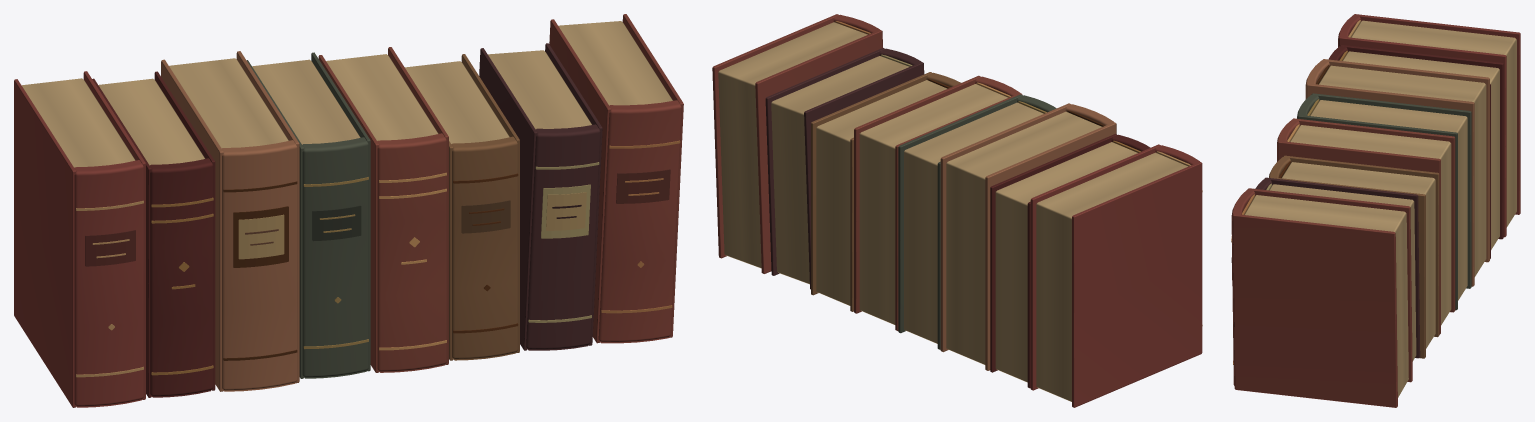
File: SM_BunkerStudyUpperBooks.fbx
The picture shows the model from 3 angles, left to right: view 1: azimuth 30°, elevation 25°; view 2: azimuth 150°, elevation 25°; view 3: azimuth 270°, elevation 25°; orthographic projection. The views are drawn at different scales.
Visible parts, largest first — view 1: SM_BunkerStudyUpperBooks; view 2: SM_BunkerStudyUpperBooks; view 3: SM_BunkerStudyUpperBooks.
Part boxes in pixels (left/top/right/bottom): SM_BunkerStudyUpperBooks: left=14, top=14, right=683, bottom=407; SM_BunkerStudyUpperBooks: left=712, top=14, right=1202, bottom=407; SM_BunkerStudyUpperBooks: left=1231, top=14, right=1520, bottom=407.
Size of what is drawn, in the model's own units: 41.22 by 23.29 by 16.33.
